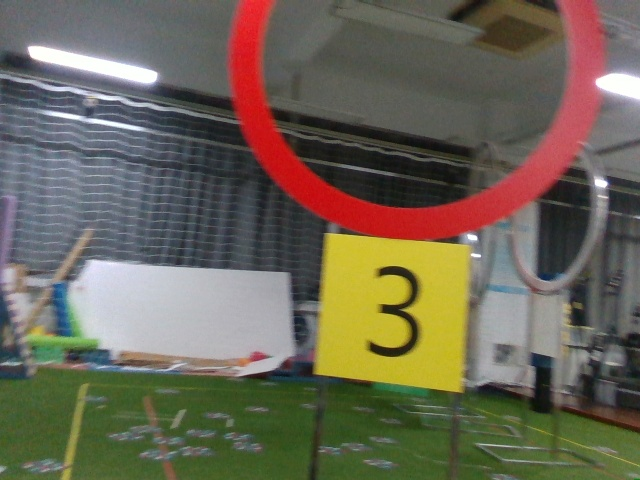target: (328, 244, 461, 377)
